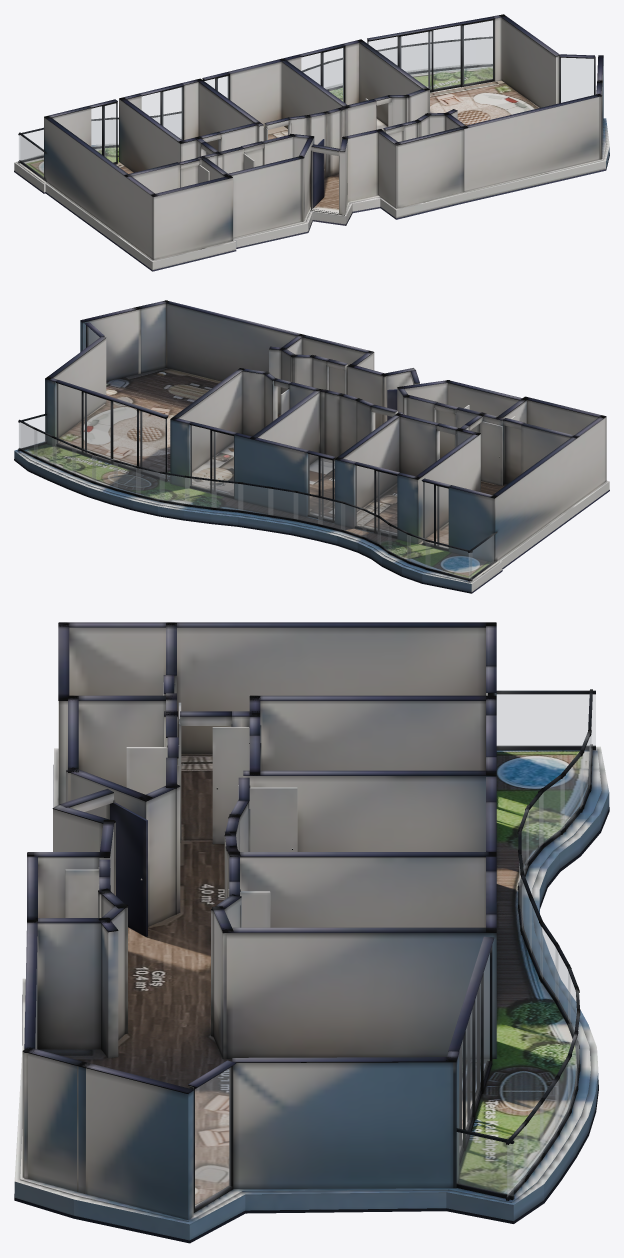
3 views of the same model, one above another, from view 1: azimuth 30°, elevation 25°; view 2: azimuth 150°, elevation 25°; view 3: azimuth 270°, elevation 25° (orthographic). The views are drawn at different scales.
Visible parts, largest first — view 1: plan, glass4_m, glass3_m, glass5_m, glass1_m, glass0_m, railg21_m, railg20_m, railg4_m, railg2_m, railg3_m, railg18_m; view 2: plan, glass4_m, glass3_m, glass1_m, glass0_m, glass2_m, railg20_m, railg12_m, railg10_m, railg11_m, railg9_m, railg8_m (+15 smaller); view 3: plan, railg21_m, glass5_m, railg0_m, glass4_m, railg17_m, railg18_m, railg2_m, railg1_m, railg3_m, railg11_m, railg16_m.
Boxes of the visible parts, box(x1,y1,x2,y2) form: plan: box(14, 14, 609, 271); glass4_m: box(368, 20, 492, 89); glass3_m: box(301, 48, 343, 101); glass5_m: box(561, 58, 593, 102); glass1_m: box(142, 87, 182, 139); glass0_m: box(91, 103, 115, 162); railg21_m: box(20, 135, 43, 177); railg20_m: box(19, 130, 43, 160); railg4_m: box(402, 45, 422, 72); railg2_m: box(454, 40, 475, 66); railg3_m: box(427, 42, 449, 69); railg18_m: box(92, 120, 110, 146); plan: box(14, 300, 609, 593); glass4_m: box(56, 383, 165, 476); glass3_m: box(190, 425, 233, 495); glass1_m: box(355, 465, 396, 535); glass0_m: box(423, 482, 448, 547); glass2_m: box(308, 454, 332, 519); railg20_m: box(426, 541, 471, 578); railg12_m: box(238, 484, 272, 515); railg10_m: box(185, 478, 216, 507); railg11_m: box(212, 481, 242, 510); railg9_m: box(160, 474, 189, 504); railg8_m: box(268, 489, 297, 518); plan: box(14, 622, 609, 1243); railg21_m: box(497, 694, 595, 746); glass5_m: box(195, 1068, 230, 1207); railg0_m: box(457, 1132, 513, 1195); glass4_m: box(459, 955, 489, 1151); railg17_m: box(539, 776, 564, 846); railg18_m: box(560, 756, 582, 830); railg2_m: box(524, 1103, 543, 1177); railg1_m: box(507, 1125, 526, 1196); railg3_m: box(540, 1081, 558, 1156); railg11_m: box(540, 926, 558, 999); railg16_m: box(526, 793, 543, 862).
Bounding box in the file's own units: 18.3 × 2.62 × 9.64.
Materials: 2 (1 with a texture image).
